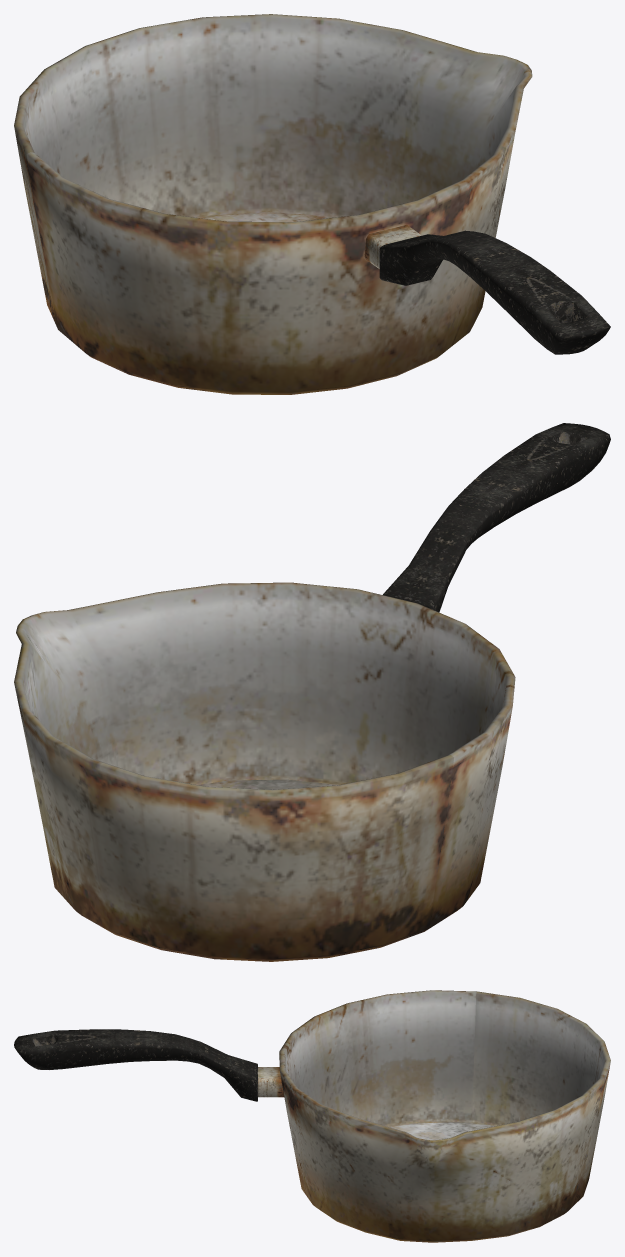
The model's file is cookingpot01c.obj.
3 renders of one model, top to bottom at view 1: azimuth 30°, elevation 25°; view 2: azimuth 150°, elevation 25°; view 3: azimuth 270°, elevation 25°, orthographic. The views are drawn at different scales.
Parts seen in each view (by area): view 1: LODGroup_1_MainMesh_1_Submesh_1; view 2: LODGroup_1_MainMesh_1_Submesh_1; view 3: LODGroup_1_MainMesh_1_Submesh_1.
Boxes of the visible parts, <box> form: LODGroup_1_MainMesh_1_Submesh_1: <box>14,14,610,394</box>; LODGroup_1_MainMesh_1_Submesh_1: <box>14,423,610,961</box>; LODGroup_1_MainMesh_1_Submesh_1: <box>14,990,610,1242</box>.
Size of the model in its own units: 32.51 by 14.62 by 53.88.
1 material, 1 textured.
